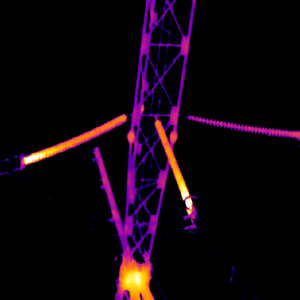insulator: (19, 110, 126, 166), (151, 115, 193, 208), (187, 110, 300, 139)
